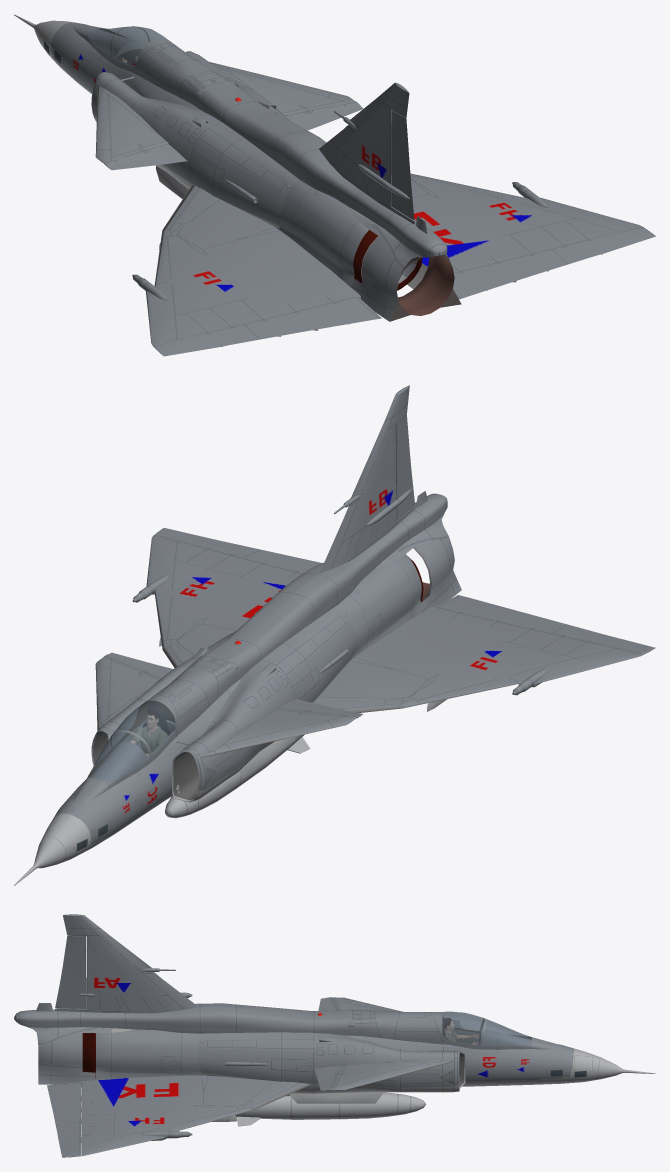
3 views of the same model, one above another, from view 1: azimuth 30°, elevation 25°; view 2: azimuth 150°, elevation 25°; view 3: azimuth 270°, elevation 25° (orthographic). The views are drawn at different scales.
Visible parts, largest first — view 1: Line53-FACES, Line___01-FACES (×2), Line51-FACES, Circle__06-FACES (×2), Circle___-FACES, Line36-FACES, RUL_BOL02-FACES, RUL_BOL1-FACES, Cylinder01-FACES, Line55-FACES, Line54-FACES, Cylinder02-FACES (+4 smaller); view 2: Line53-FACES, Line___01-FACES (×2), Circle__06-FACES, Circle___-FACES (×2), Line51-FACES, Line36-FACES, Object01-FACES, RUL_BOL02-FACES, Line55-FACES, Cylinder01-FACES, Line54-FACES, RUL_BOL1-FACES (+3 smaller); view 3: Line___01-FACES (×2), Circle__06-FACES (×2), Line51-FACES, Circle___-FACES, Line36-FACES, Capsule04-FACES, Cylinder01-FACES, Object01-FACES, RUL_BOL1-FACES, RUL_NAPR-FACES, Line54-FACES, Box04-FACES (+2 smaller).
Boxes of the visible parts, left/top/right/bottom form: Line53-FACES: left=145, top=185, right=360, bottom=344; Line___01-FACES (×2): left=73, top=24, right=447, bottom=257; Line51-FACES: left=410, top=173, right=640, bottom=273; Circle__06-FACES (×2): left=34, top=20, right=422, bottom=290; Circle___-FACES: left=91, top=51, right=299, bottom=228; Line36-FACES: left=319, top=82, right=414, bottom=224; RUL_BOL02-FACES: left=152, top=297, right=381, bottom=356; RUL_BOL1-FACES: left=453, top=226, right=655, bottom=299; Cylinder01-FACES: left=350, top=208, right=448, bottom=321; Line55-FACES: left=96, top=86, right=168, bottom=162; Line54-FACES: left=209, top=62, right=354, bottom=115; Cylinder02-FACES: left=361, top=235, right=454, bottom=315; Line53-FACES: left=312, top=606, right=641, bottom=710; Line___01-FACES (×2): left=73, top=491, right=447, bottom=804; Circle__06-FACES: left=34, top=554, right=423, bottom=868; Circle___-FACES (×2): left=91, top=604, right=357, bottom=802; Line51-FACES: left=146, top=536, right=301, bottom=665; Line36-FACES: left=319, top=385, right=415, bottom=573; Object01-FACES: left=88, top=701, right=175, bottom=782; RUL_BOL02-FACES: left=436, top=595, right=655, bottom=655; Line55-FACES: left=205, top=708, right=354, bottom=755; Cylinder01-FACES: left=376, top=514, right=461, bottom=611; Line54-FACES: left=96, top=657, right=159, bottom=727; RUL_BOL1-FACES: left=153, top=528, right=321, bottom=573; Line___01-FACES (×2): left=14, top=1003, right=560, bottom=1049; Circle__06-FACES (×2): left=82, top=1029, right=622, bottom=1096; Line51-FACES: left=81, top=1075, right=310, bottom=1155; Circle___-FACES: left=198, top=1021, right=465, bottom=1093; Line36-FACES: left=54, top=914, right=198, bottom=1013; Capsule04-FACES: left=235, top=1092, right=425, bottom=1126; Cylinder01-FACES: left=27, top=1027, right=111, bottom=1084; Object01-FACES: left=442, top=1011, right=531, bottom=1045; RUL_BOL1-FACES: left=47, top=1082, right=81, bottom=1157; RUL_NAPR-FACES: left=55, top=935, right=85, bottom=1008; Line54-FACES: left=333, top=1059, right=449, bottom=1090; Box04-FACES: left=289, top=1092, right=383, bottom=1103.
Bounding box in the file's own units: 10.67 × 5.7 × 16.07.
Materials: 36 (16 with a texture image).
